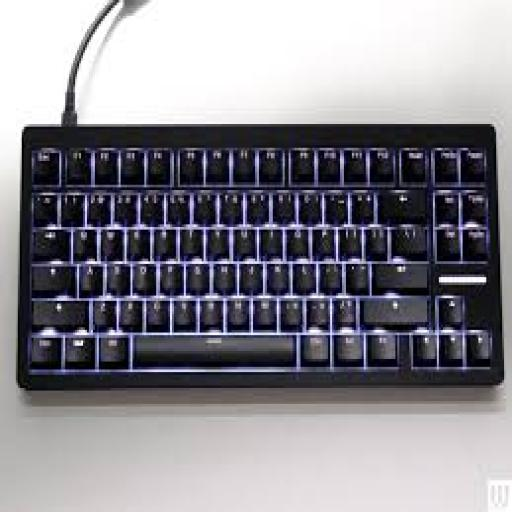KEYBOARD-2: (14, 90, 504, 388)
